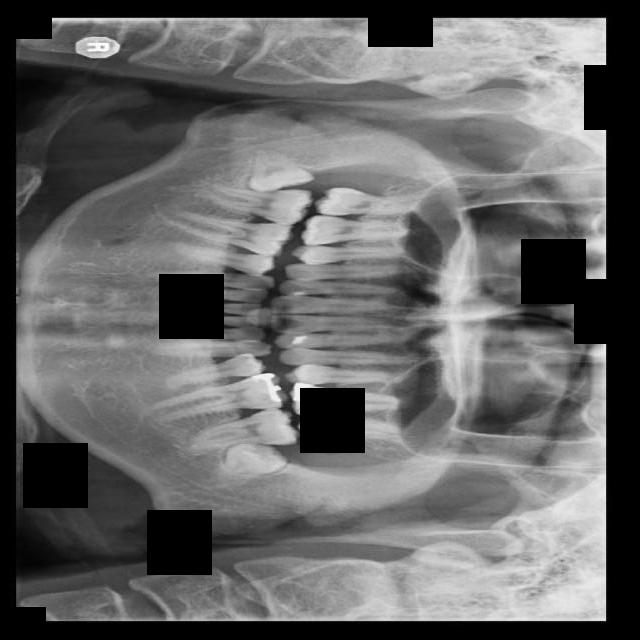52: (234, 372, 288, 413), (288, 382, 332, 416), (279, 277, 318, 298), (274, 333, 312, 348)
73: (49, 581, 67, 582)
BioHorizons Implant: (299, 416, 407, 447)
Biomet 3i Implant: (213, 433, 290, 489)
Blue Sky Bio Implant: (198, 407, 300, 451)
Caries: (316, 187, 431, 217)
Implant: (195, 182, 315, 226)
Keystone Dental Implant: (249, 148, 315, 193)
